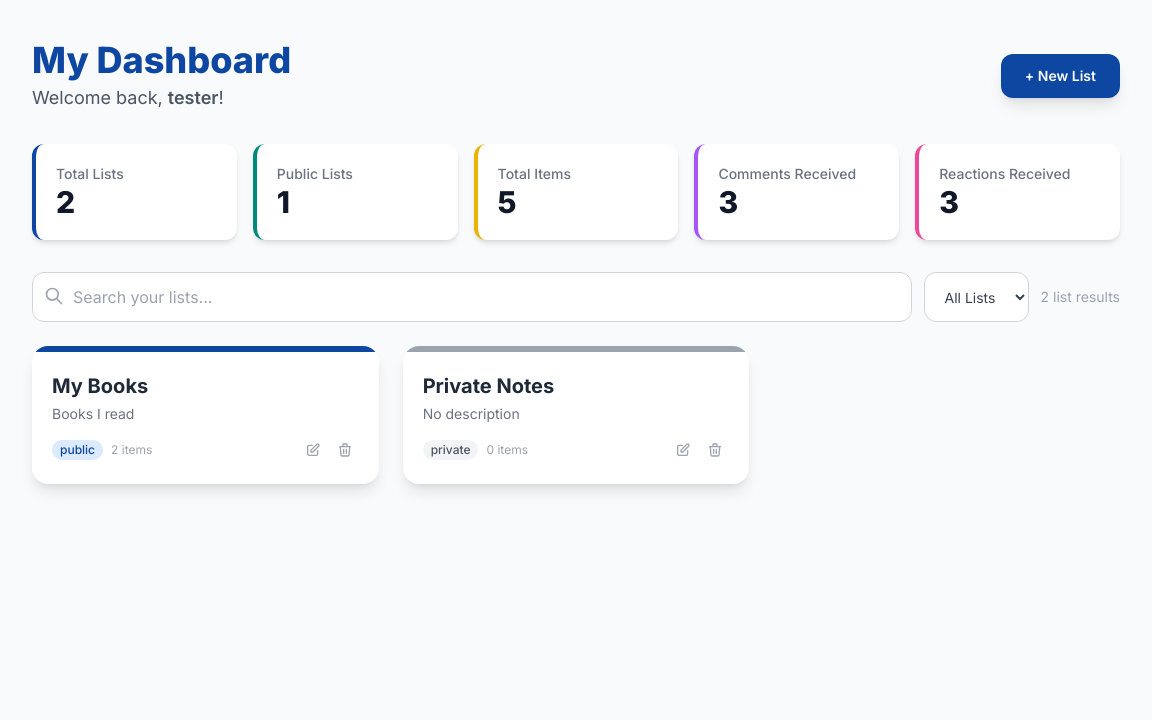
Test case: Dashboard › opens delete confirmation modal
Expected: the heading "My Books" is shown, [52,374,148,398]
Click the button titled "Delete list" below "Books I read".
click(345, 450)  # box [331,436,359,464]
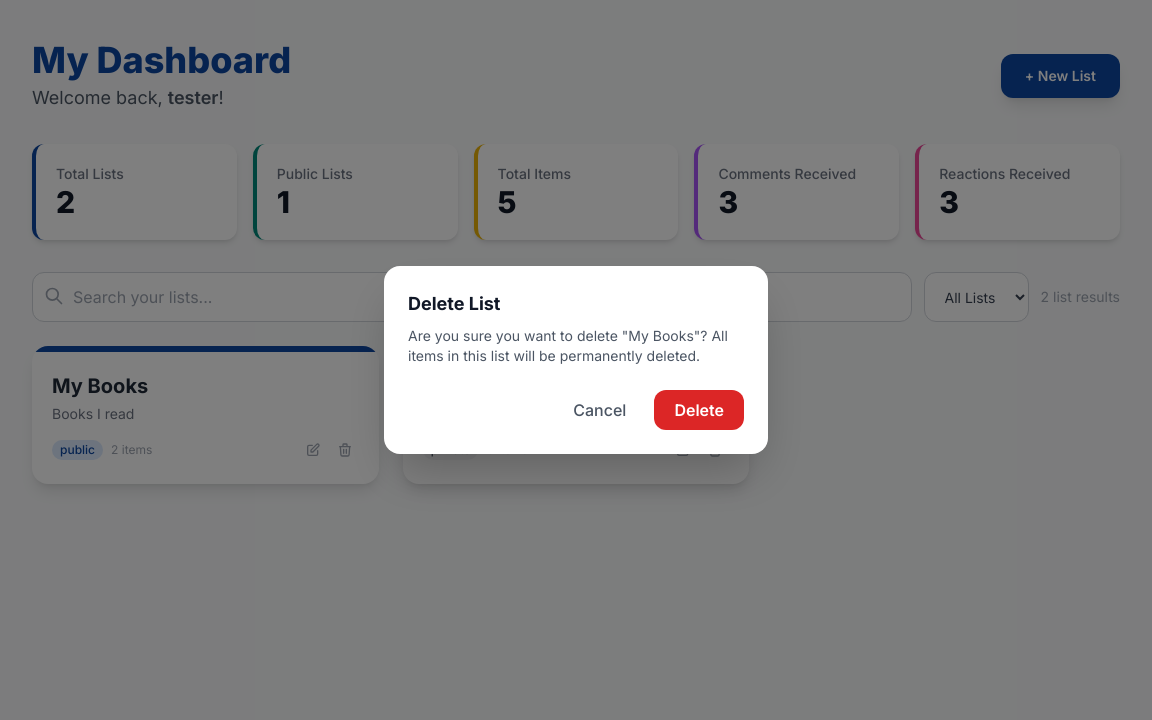
Expected: the text "Are you sure you want to delete \"My Books\"" is shown, [408,327,728,364]
